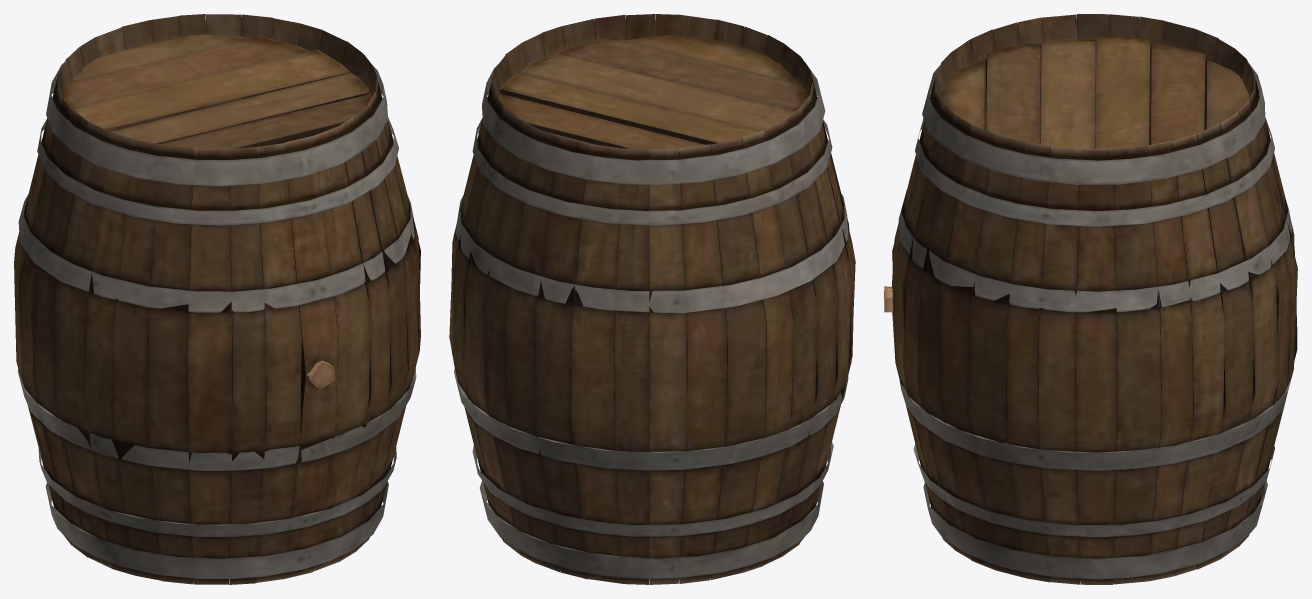
File: cask.glb
The picture shows the model from 3 angles, left to right: view 1: azimuth 30°, elevation 25°; view 2: azimuth 150°, elevation 25°; view 3: azimuth 270°, elevation 25°; orthographic projection.
Visible parts, largest first — view 1: cask; view 2: cask; view 3: cask.
Part boxes in pixels (x1=…): cask: x1=14, y1=14, x2=420, y2=584; cask: x1=449, y1=14, x2=855, y2=584; cask: x1=884, y1=14, x2=1297, y2=584.
Bounding box in the file's own units: 0.7396 × 0.8773 × 0.7544.
Materials: 1 (1 with a texture image).
